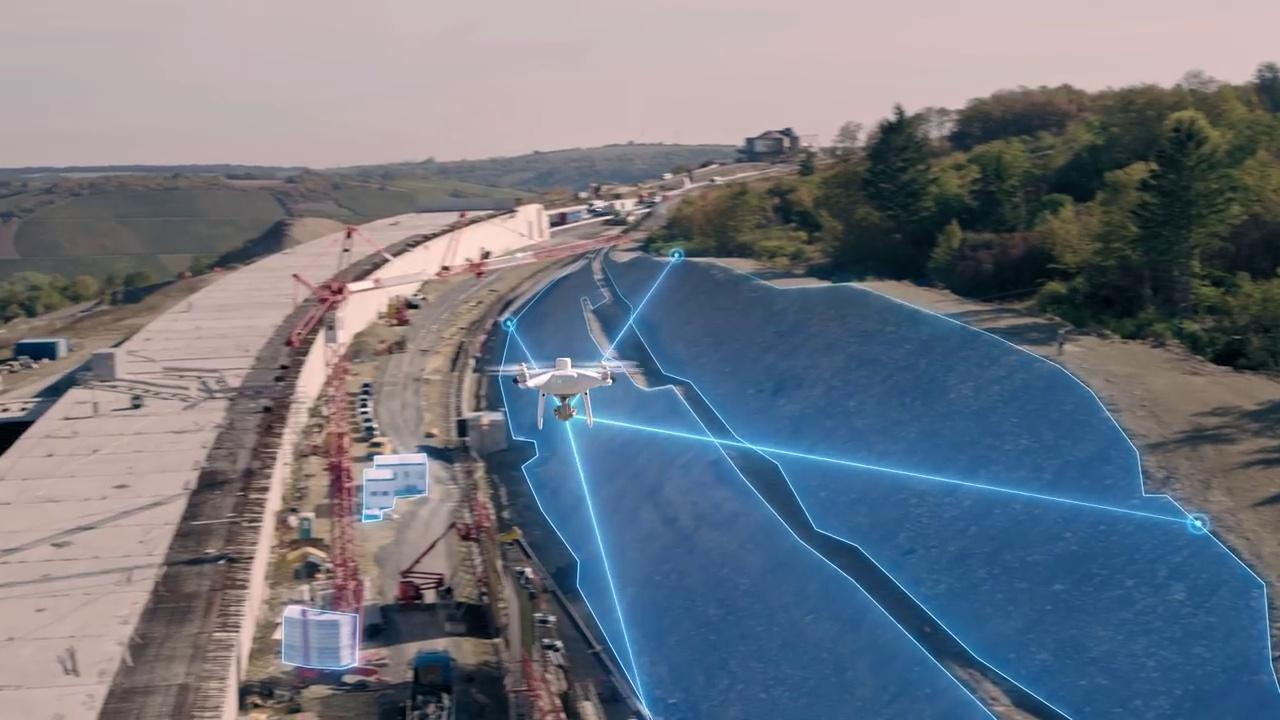drone: (488, 351, 643, 431)
